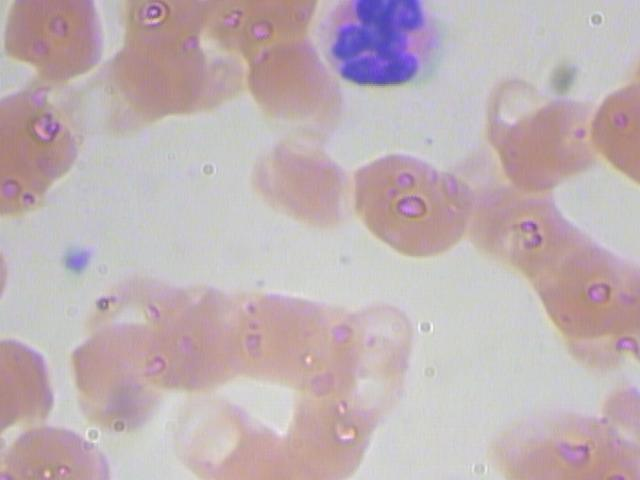RBC: (348, 148, 476, 273), (1, 87, 90, 219), (239, 138, 350, 230), (225, 287, 317, 388), (543, 243, 635, 344), (1, 1, 104, 90), (514, 85, 606, 176), (241, 38, 333, 129), (68, 319, 160, 410), (164, 387, 256, 478), (327, 290, 419, 381), (275, 389, 367, 480), (118, 33, 210, 124)
